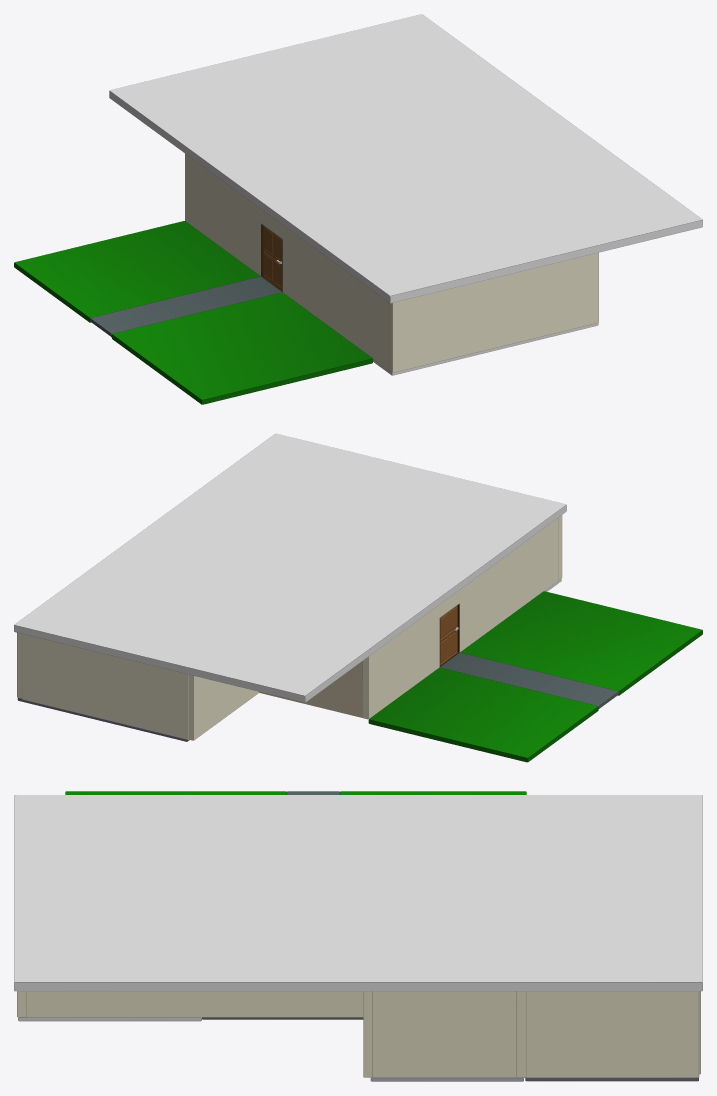
File: House.fbx
3 views of the same model, one above another, from view 1: azimuth 30°, elevation 25°; view 2: azimuth 150°, elevation 25°; view 3: azimuth 270°, elevation 25° (orthographic). The views are drawn at different scales.
Parts seen in each view (by area): view 1: Ceiling, Outside, Walls, Door, Floors; view 2: Ceiling, Outside, Walls, Door, Floors; view 3: Ceiling, Walls, Floors, Outside.
Boxes of the visible parts, <box> form: Ceiling: <box>109,14,702,303</box>; Outside: <box>14,221,372,404</box>; Walls: <box>185,153,598,372</box>; Door: <box>263,226,281,289</box>; Floors: <box>261,276,598,375</box>; Ceiling: <box>14,433,566,702</box>; Outside: <box>368,591,702,762</box>; Walls: <box>17,515,562,740</box>; Door: <box>440,605,457,664</box>; Floors: <box>17,578,561,741</box>; Ceiling: <box>14,795,702,991</box>; Walls: <box>17,991,700,1077</box>; Floors: <box>18,1017,698,1081</box>; Outside: <box>65,791,526,794</box>.
Size of the model in its own units: 2071 by 344 by 2100.
Materials: 7 (7 with a texture image).
